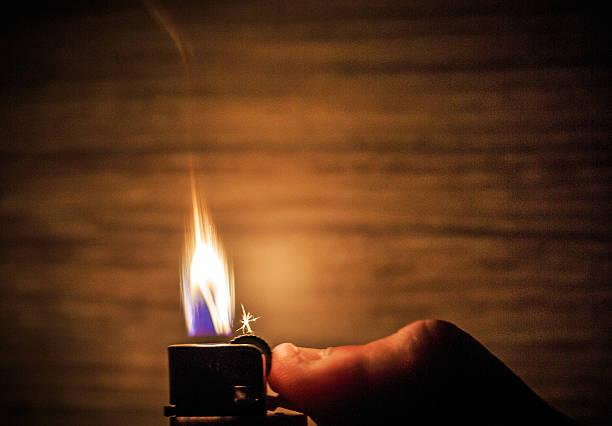Fire: (178, 183, 236, 337)
